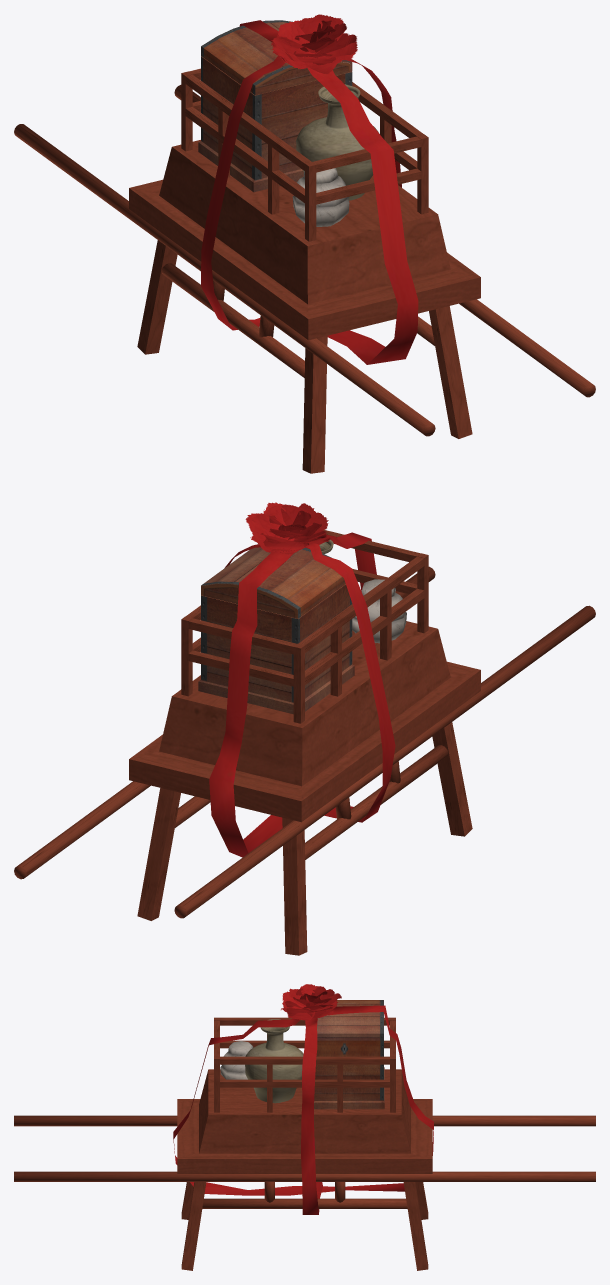
File: FC_N592_B_Dowry_A.fbx
The picture shows the model from 3 angles, top to bottom: view 1: azimuth 30°, elevation 25°; view 2: azimuth 150°, elevation 25°; view 3: azimuth 270°, elevation 25°; orthographic projection. The views are drawn at different scales.
Parts seen in each view (by area): view 1: Dowry_A; view 2: Dowry_A; view 3: Dowry_A.
Part boxes in pixels (x1,y1,x2,y2): Dowry_A: [14, 14, 595, 473]; Dowry_A: [14, 502, 595, 955]; Dowry_A: [14, 984, 595, 1270].
Bounding box in the file's own units: 70.95 × 130 × 265.
